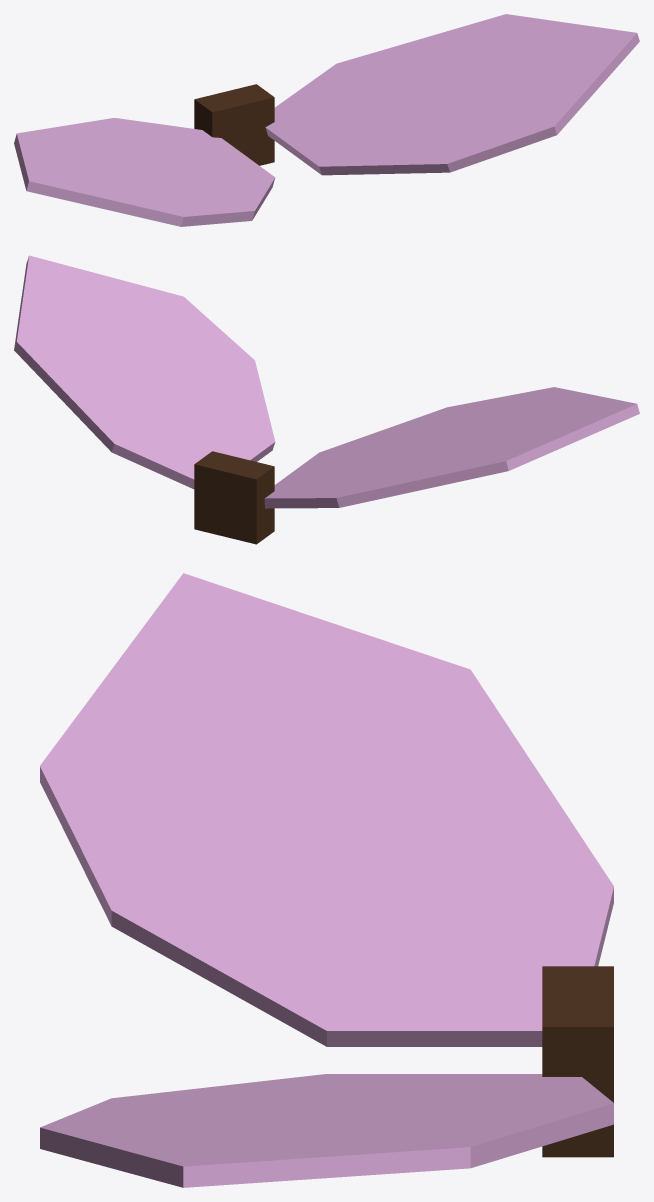
File: empress_wings.glb
3 views of the same model, one above another, from view 1: azimuth 30°, elevation 25°; view 2: azimuth 150°, elevation 25°; view 3: azimuth 270°, elevation 25° (orthographic). The views are drawn at different scales.
Parts seen in each view (by area): view 1: empress_wings_v0; view 2: empress_wings_v0; view 3: empress_wings_v0.
Part boxes in pixels (x1,y1,x2,y2): empress_wings_v0: (14, 14, 639, 226); empress_wings_v0: (14, 255, 639, 544); empress_wings_v0: (40, 573, 613, 1187).
Size of the model in its own units: 0.7896 by 0.158 by 0.32.
